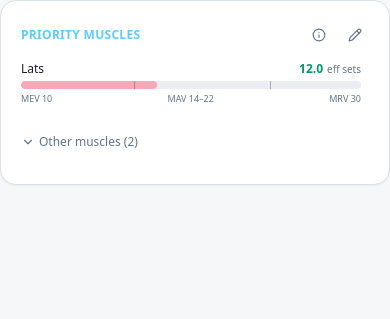
Test: PriorityMusclesTile › C1b expand: footer "other muscles" toggle reveals hidden rows
Check: the text "Quads" is not shown
Click the button "Other muscles (2)" at point(79, 142), box x1=21 y1=120 x2=138 y2=164
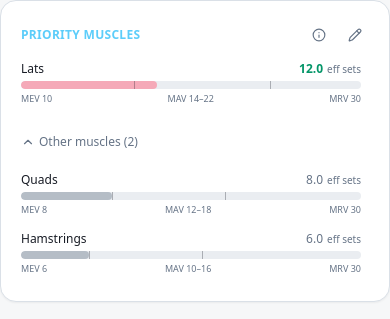
Check: the text "Quads" is shown, box x1=21 y1=172 x2=58 y2=188
